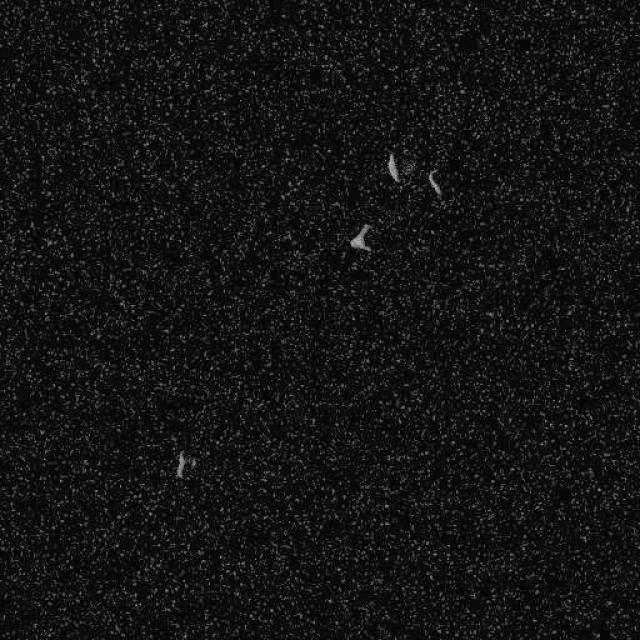D2: (348, 222, 372, 252), (426, 168, 444, 198), (385, 152, 401, 182), (174, 449, 188, 479)
